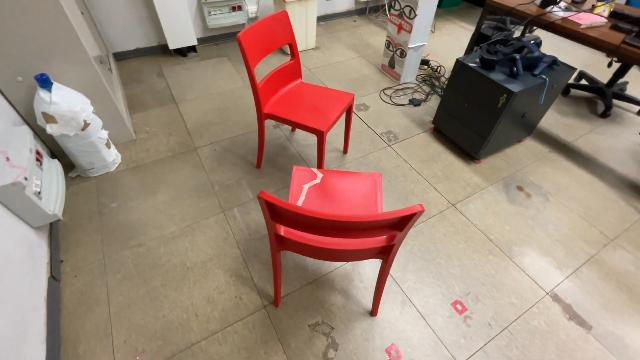Chair: (255, 162, 428, 320), (235, 7, 357, 175)
